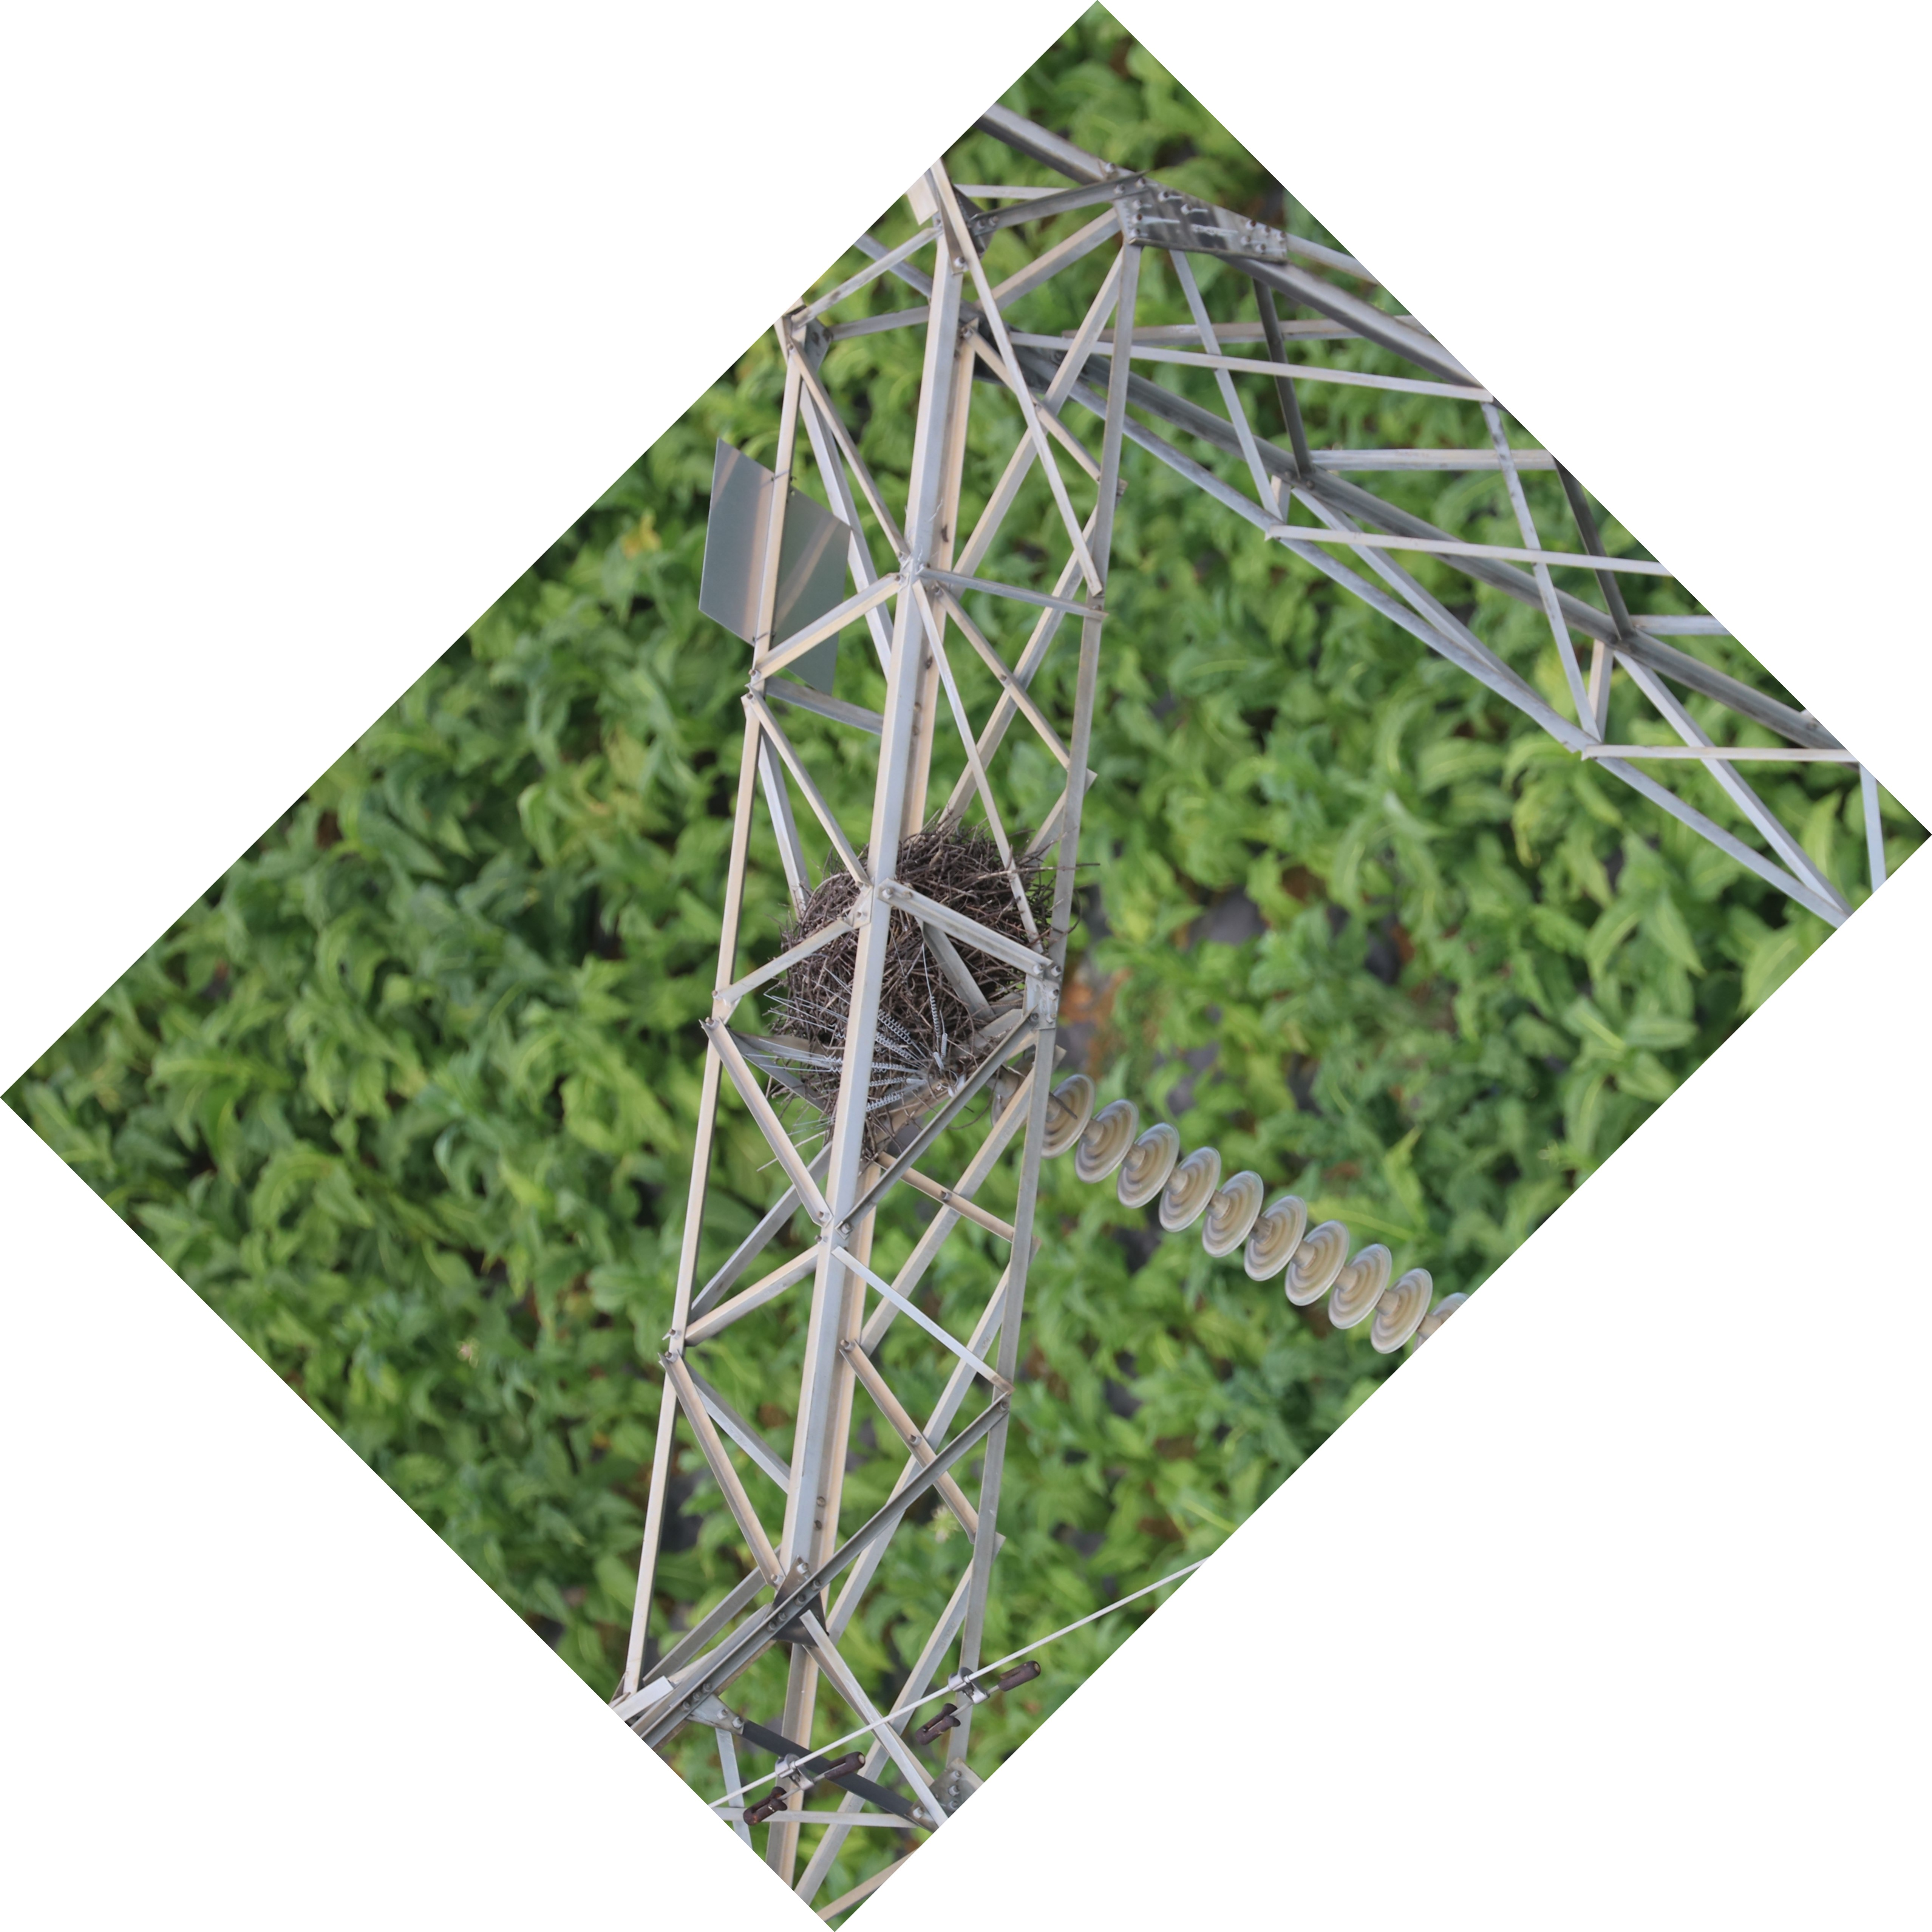niaowo: (736, 800, 1076, 1122)
